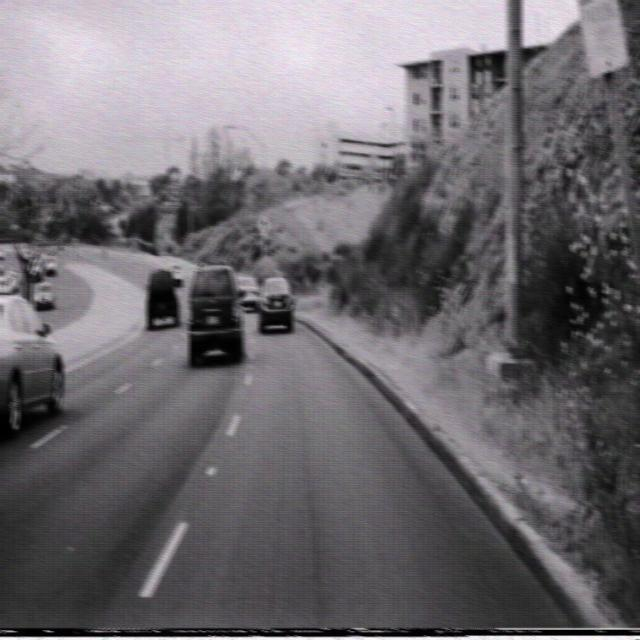pedestrianCrossing: (256, 210, 271, 240)
